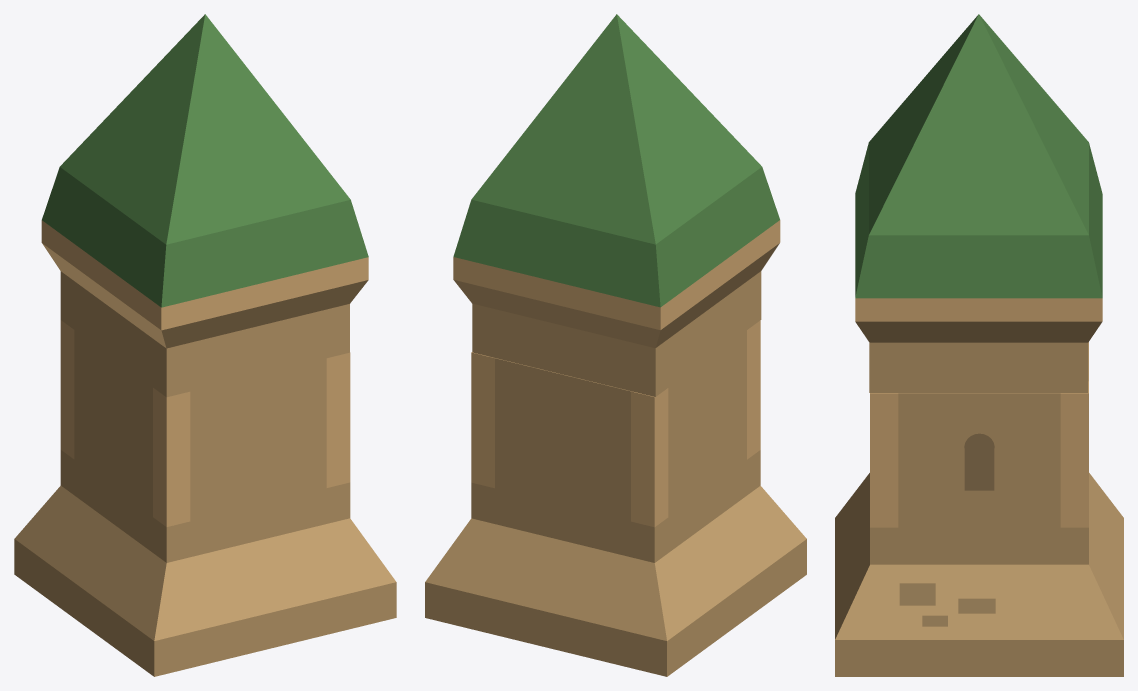
The model's file is Stolp.dae.
The picture shows the model from 3 angles, left to right: view 1: azimuth 30°, elevation 25°; view 2: azimuth 150°, elevation 25°; view 3: azimuth 270°, elevation 25°; orthographic projection. The views are drawn at different scales.
Visible parts, largest first — view 1: Group107 (×3), Group18, Group80 (×4); view 2: Group107 (×3), Group18, Group80 (×4); view 3: Group107 (×3), Group18 (×3), Group80 (×4).
Part boxes in pixels (bbox=[...]): Group107 (×3): bbox=[41, 14, 368, 397]; Group18: bbox=[14, 450, 396, 676]; Group80 (×4): bbox=[60, 320, 350, 526]; Group107 (×3): bbox=[453, 14, 780, 396]; Group18: bbox=[425, 450, 806, 676]; Group80 (×4): bbox=[471, 320, 760, 527]; Group107 (×3): bbox=[855, 14, 1102, 392]; Group18 (×3): bbox=[835, 473, 1123, 676]; Group80 (×4): bbox=[870, 381, 1088, 527].
Bounding box in the file's own units: 30.66 × 30.66 × 70.47.
